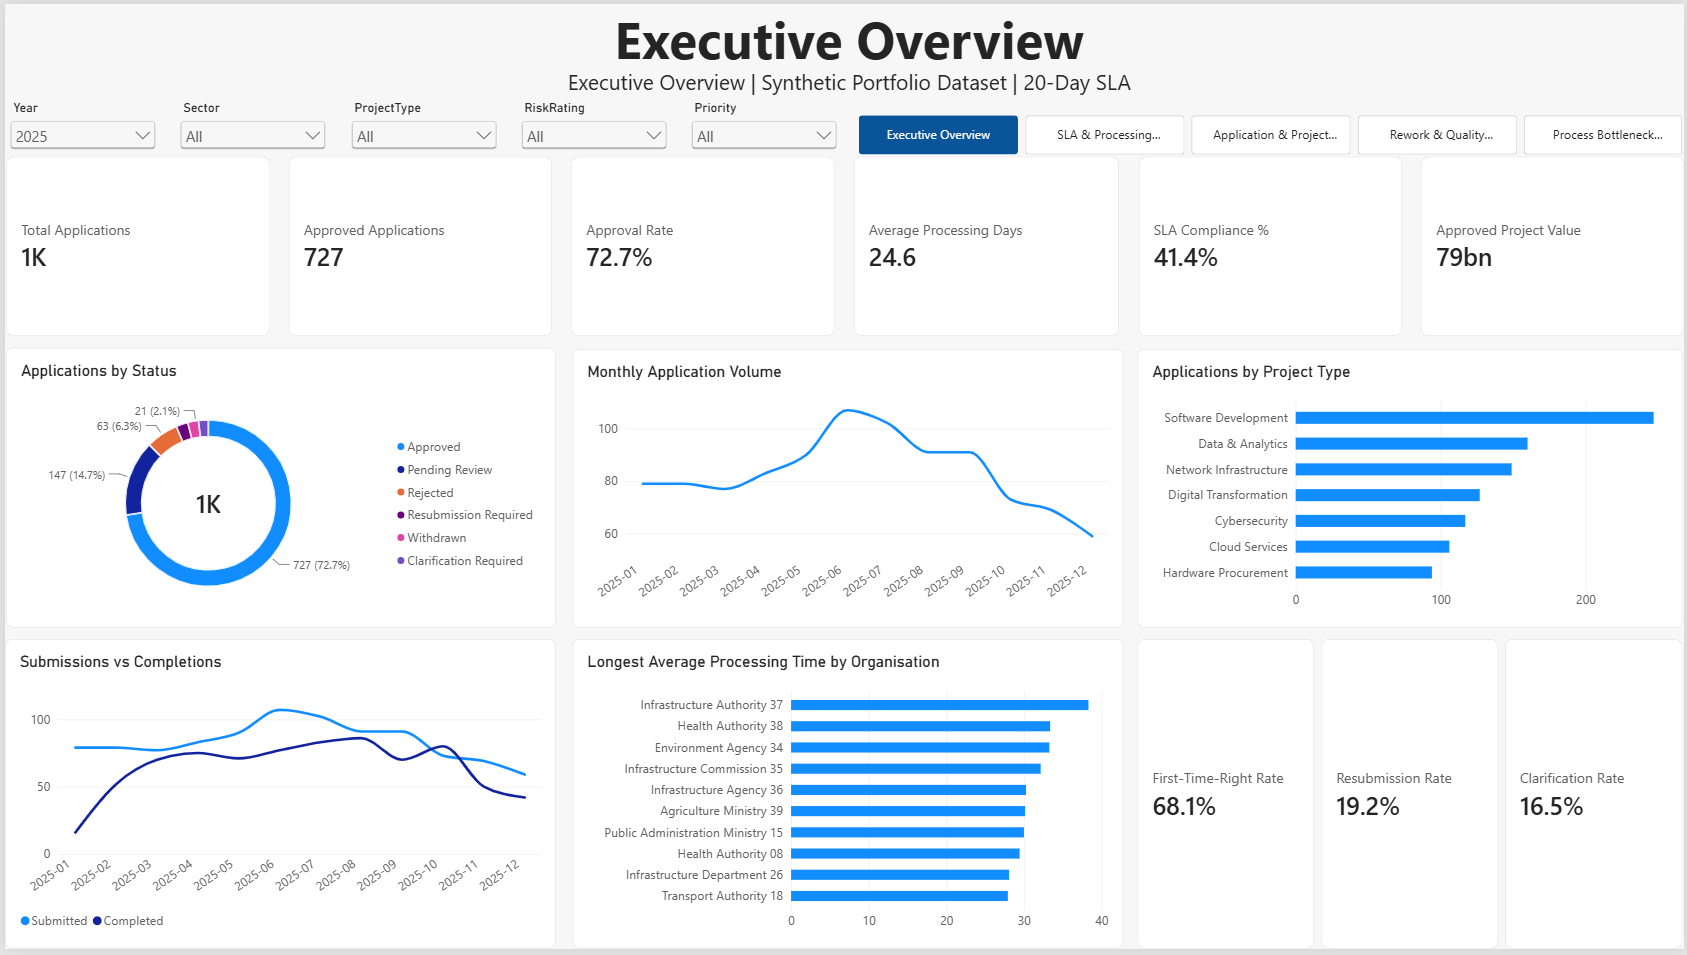

The dashboard page shown, as its layout file describes it:
{"tool":"powerbi","page":{"name":"Executive Overview","canvas":[1920,1080],"ordinal":0},"visuals":[{"type":"textbox","box":[10,0,1910,78.3],"z":0},{"type":"textbox","box":[10,73.3,1910,36.7],"z":1000},{"type":"cardVisual","fields":{"Data":["_Measures.Total Applications"]},"box":[1.7,175,301.7,205],"z":2000},{"type":"cardVisual","fields":{"Data":["_Measures.Approved Applications"]},"box":[324.7,175,301.7,205],"z":3000},{"type":"cardVisual","fields":{"Data":["_Measures.Approval Rate"]},"box":[647.7,175,301.7,205],"z":4000},{"type":"cardVisual","fields":{"Data":["_Measures.Average Processing Days"]},"box":[970.7,175,303.3,205],"z":5000},{"type":"cardVisual","fields":{"Data":["_Measures.SLA Compliance %"]},"box":[1295.3,175,301.7,205],"z":6000},{"type":"cardVisual","title":"Approved Value","fields":{"Data":["_Measures.Approved Project Value"]},"box":[1618.3,175,301.7,205],"z":7000},{"type":"donutChart","title":"Applications by Status","fields":{"Category":["DimApplicationStatus.Status"],"Y":["_Measures.Total Applications"]},"box":[1.7,393.3,628.3,320],"z":8000},{"type":"lineChart","title":"Monthly Application Volume","fields":{"Category":["DimDate.Year Month"],"Y":["_Measures.Applications Submitted"]},"box":[649.1,394.1,629.8,318.8],"z":9000},{"type":"clusteredBarChart","title":"Applications by Project Type","fields":{"Category":["DimProjectType.ProjectType"],"Y":["_Measures.Total Applications"]},"box":[1294.4,394.1,624,318.8],"z":10000},{"type":"lineChart","title":"Submissions vs Completions","fields":{"Category":["DimDate.Year Month"],"Y":["_Measures.Applications Submitted","_Measures.Applications Completed by Completion Date"]},"box":[0,726.4,629.8,353.6],"z":11000},{"type":"barChart","title":"Longest Average Processing Time by Organisation","fields":{"Category":["DimOrganisation.OrganisationName"],"Y":["_Measures.Average Processing Days"]},"box":[649.1,726.4,629.8,353.6],"z":12000},{"type":"cardVisual","fields":{"Data":["_Measures.First-Time-Right Rate","_Measures.Resubmission Rate","_Measures.Clarification Rate"]},"box":[1294,726,624,354],"z":13000},{"type":"slicer","fields":{"Values":["DimDate.Year"]},"box":[1.7,110,175,65],"z":14000},{"type":"slicer","fields":{"Values":["DimOrganisation.Sector"]},"box":[196.3,110,175,65],"z":15000},{"type":"slicer","fields":{"Values":["FactApplications.RiskRating"]},"box":[585.7,110,175,65],"z":16000},{"type":"slicer","fields":{"Values":["FactApplications.Priority"]},"box":[780.3,110,175,65],"z":17000},{"type":"slicer","fields":{"Values":["DimProjectType.ProjectType"]},"box":[391,110,175,65],"z":18000},{"type":"pageNavigator","box":[975,126.7,943.3,45],"z":19000}]}

Visuals, with their boxes in screenshot pixels (x1, y1, x2, y2), scaled from the page's 1920x1080 canvas onto the 1687x955 screenshot:
textbox: crop(9, 0, 1686, 69)
textbox: crop(9, 65, 1686, 97)
cardVisual - _Measures.Total Applications: crop(1, 155, 267, 336)
cardVisual - _Measures.Approved Applications: crop(285, 155, 550, 336)
cardVisual - _Measures.Approval Rate: crop(569, 155, 834, 336)
cardVisual - _Measures.Average Processing Days: crop(853, 155, 1119, 336)
cardVisual - _Measures.SLA Compliance %: crop(1138, 155, 1403, 336)
"Approved Value" cardVisual: crop(1422, 155, 1686, 336)
"Applications by Status" donutChart: crop(1, 348, 554, 631)
"Monthly Application Volume" lineChart: crop(570, 348, 1124, 630)
"Applications by Project Type" clusteredBarChart: crop(1137, 348, 1686, 630)
"Submissions vs Completions" lineChart: crop(0, 642, 553, 954)
"Longest Average Processing Time by Organisation" barChart: crop(570, 642, 1124, 954)
cardVisual - _Measures.First-Time-Right Rate x _Measures.Resubmission Rate: crop(1137, 642, 1685, 954)
slicer - DimDate.Year: crop(1, 97, 155, 155)
slicer - DimOrganisation.Sector: crop(172, 97, 326, 155)
slicer - FactApplications.RiskRating: crop(515, 97, 668, 155)
slicer - FactApplications.Priority: crop(686, 97, 839, 155)
slicer - DimProjectType.ProjectType: crop(344, 97, 497, 155)
pageNavigator: crop(857, 112, 1686, 152)
